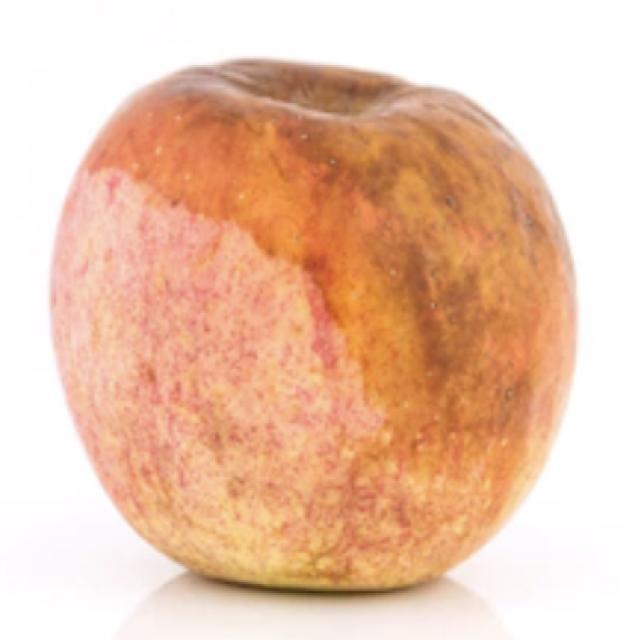Rotten: (55, 35, 552, 575)
